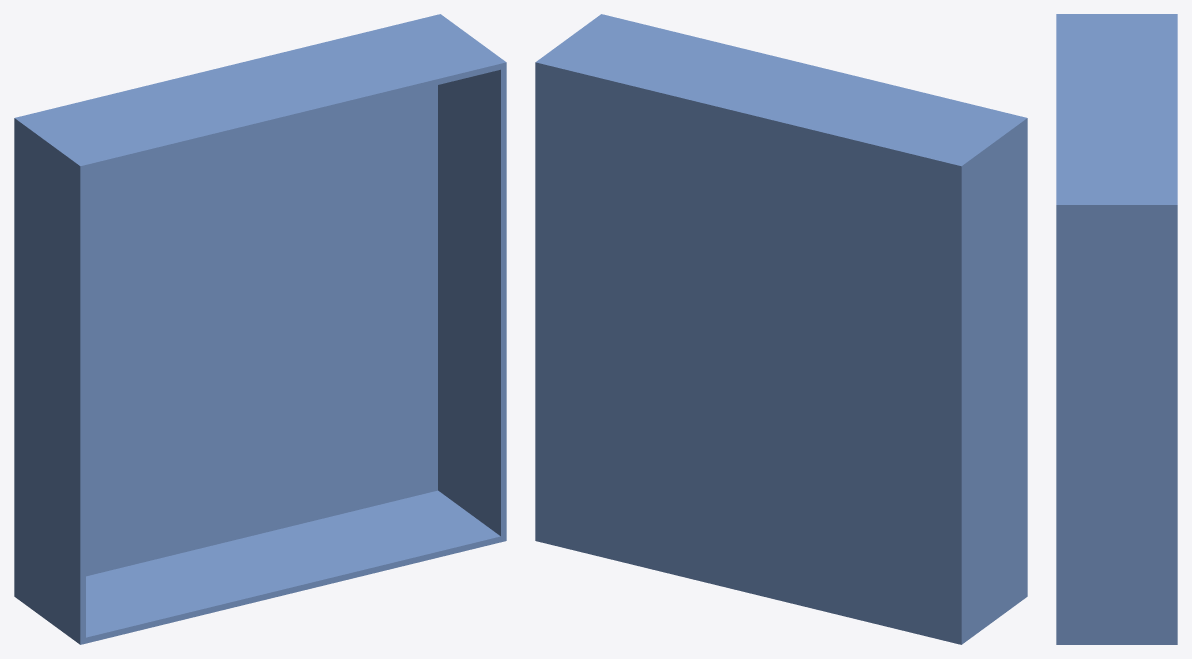
3 renders of one model, left to right at view 1: azimuth 30°, elevation 25°; view 2: azimuth 150°, elevation 25°; view 3: azimuth 270°, elevation 25°, orthographic. The views are drawn at different scales.
Visible parts, largest first — view 1: mesh54, mesh45, mesh44, mesh53, mesh52, mesh49; view 2: mesh48, mesh45, mesh44; view 3: mesh47, mesh44.
Boxes of the visible parts, bbox=[...] form: mesh54: bbox=[86, 85, 437, 576]; mesh45: bbox=[14, 118, 80, 644]; mesh44: bbox=[15, 14, 505, 166]; mesh53: bbox=[438, 69, 500, 536]; mesh52: bbox=[86, 490, 500, 637]; mesh49: bbox=[80, 62, 506, 644]; mesh48: bbox=[535, 62, 961, 644]; mesh45: bbox=[961, 118, 1027, 644]; mesh44: bbox=[536, 14, 1026, 166]; mesh47: bbox=[1056, 205, 1177, 644]; mesh44: bbox=[1056, 14, 1177, 204].
Size of the model in its own units: 0.1863 by 0.2 by 0.05.
